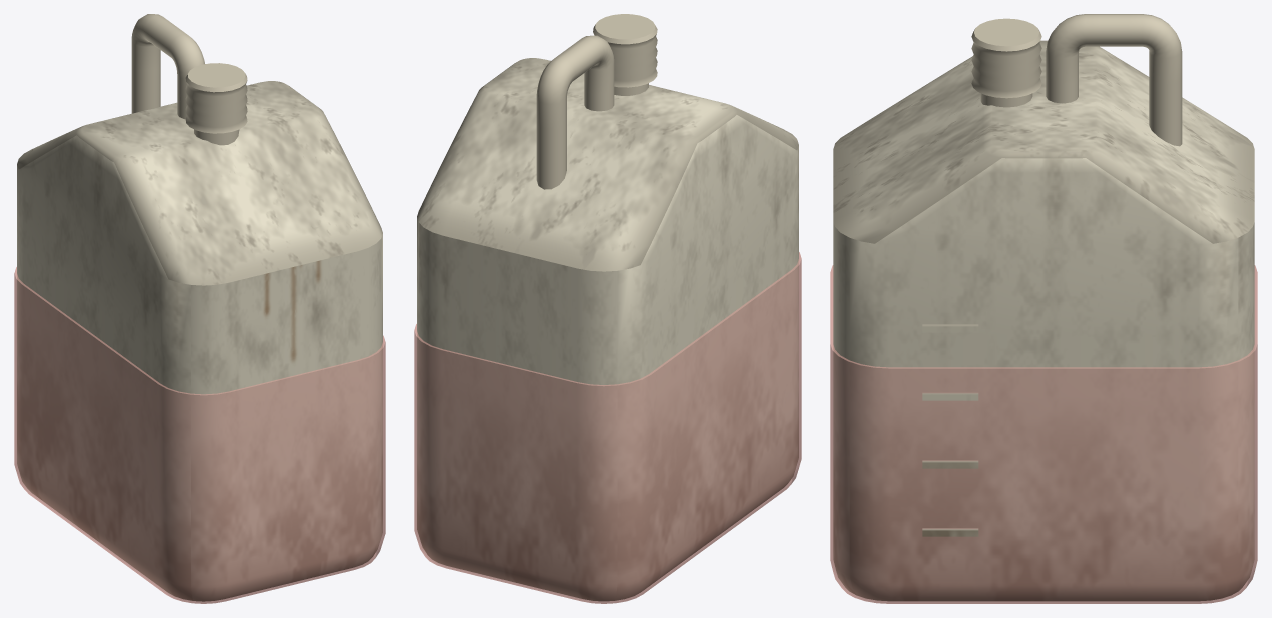
File: JerryCan.fbx
3 views of the same model, side by side, from view 1: azimuth 30°, elevation 25°; view 2: azimuth 150°, elevation 25°; view 3: azimuth 270°, elevation 25° (orthographic). The views are drawn at different scales.
Parts seen in each view (by area): view 1: JerryCan, JerryCanFuel; view 2: JerryCan, JerryCanFuel; view 3: JerryCan, JerryCanFuel.
Part boxes in pixels (box(x1,y1,x2,y2)): JerryCan: box(17, 14, 382, 601); JerryCanFuel: box(14, 267, 385, 603); JerryCan: box(417, 14, 798, 601); JerryCanFuel: box(414, 252, 801, 603); JerryCan: box(833, 14, 1254, 601); JerryCanFuel: box(830, 265, 1257, 603).
Size of the model in its own units: 17.27 by 35.1 by 25.54.
Materials: 2 (1 with a texture image).
